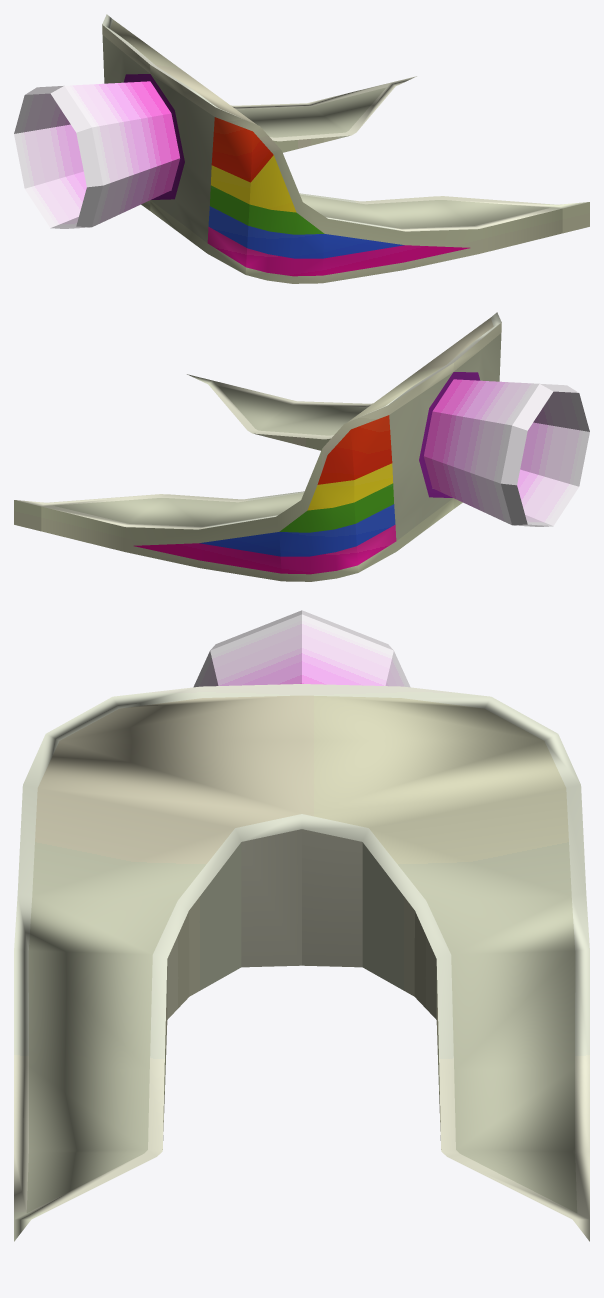
The model's file is FX_flowerTrail_menu.glb.
3 views of the same model, one above another, from view 1: azimuth 30°, elevation 25°; view 2: azimuth 150°, elevation 25°; view 3: azimuth 270°, elevation 25° (orthographic). The views are drawn at different scales.
Visible parts, largest first — view 1: Sanfrancisco_flowerTrail_mesh, Sanfrancisco_flowerTrail_thruster; view 2: Sanfrancisco_flowerTrail_mesh, Sanfrancisco_flowerTrail_thruster; view 3: Sanfrancisco_flowerTrail_mesh, Sanfrancisco_flowerTrail_thruster.
Part boxes in pixels (x1,y1,x2,y2): Sanfrancisco_flowerTrail_mesh: (102, 14, 589, 283); Sanfrancisco_flowerTrail_thruster: (14, 81, 179, 228); Sanfrancisco_flowerTrail_mesh: (14, 312, 501, 581); Sanfrancisco_flowerTrail_thruster: (424, 379, 589, 526); Sanfrancisco_flowerTrail_mesh: (14, 684, 589, 1241); Sanfrancisco_flowerTrail_thruster: (193, 610, 410, 687).
Bounding box in the file's own units: 5.91 × 2.31 × 3.88.
2 materials, 2 textured.
